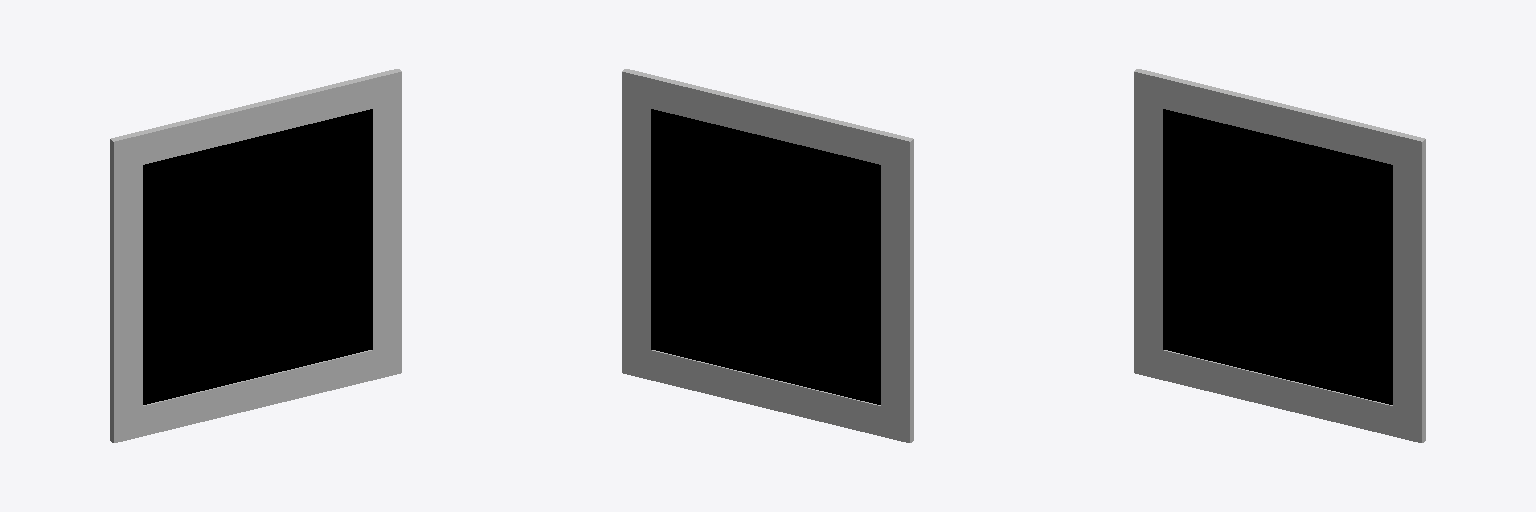
File: windowTintedSide.obj
The picture shows the model from 3 angles: view 1: azimuth 30°, elevation 25°; view 2: azimuth 150°, elevation 25°; view 3: azimuth 330°, elevation 25°; orthographic projection.
Parts seen in each view (by area): view 1: Cube.004_Cube.008, Cube, Cube.003_Cube.007, Cube.001, Cube.002; view 2: Cube.004_Cube.008, Cube, Cube.003_Cube.007, Cube.001, Cube.002; view 3: Cube.004_Cube.008, Cube.003_Cube.007, Cube, Cube.001, Cube.002.
Boxes of the visible parts, x1,y1,x2,y2 form: Cube.004_Cube.008: [143, 109, 372, 404]; Cube: [110, 132, 142, 442]; Cube.003_Cube.007: [369, 69, 401, 379]; Cube.001: [139, 76, 372, 164]; Cube.002: [143, 350, 372, 435]; Cube.004_Cube.008: [651, 109, 880, 404]; Cube: [881, 132, 913, 442]; Cube.003_Cube.007: [622, 69, 654, 379]; Cube.001: [651, 76, 884, 164]; Cube.002: [651, 350, 880, 435]; Cube.004_Cube.008: [1163, 109, 1392, 404]; Cube.003_Cube.007: [1393, 132, 1425, 442]; Cube: [1134, 69, 1166, 379]; Cube.001: [1163, 76, 1396, 164]; Cube.002: [1163, 350, 1392, 435].
Bounding box in the file's own units: 4 × 4 × 0.1.